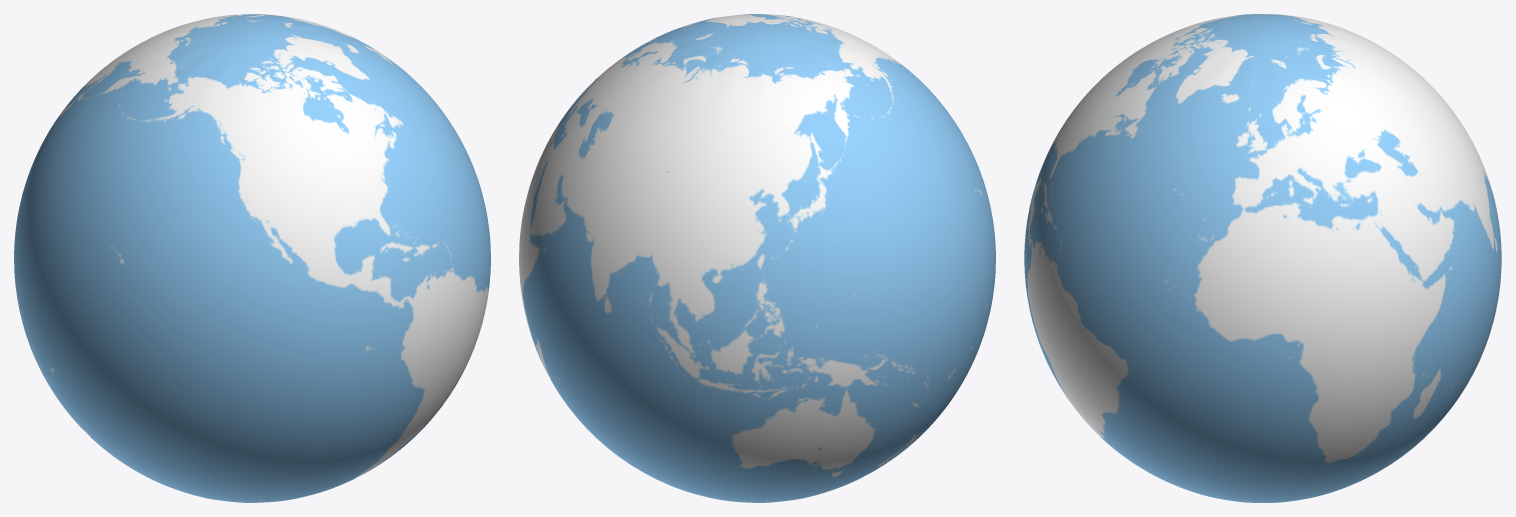
The model's file is earth.obj.
3 views of the same model, side by side, from view 1: azimuth 30°, elevation 25°; view 2: azimuth 150°, elevation 25°; view 3: azimuth 270°, elevation 25° (orthographic).
Parts seen in each view (by area): view 1: Sphere; view 2: Sphere; view 3: Sphere.
Part boxes in pixels (left/top/right/bottom): Sphere: left=14, top=14, right=490, bottom=502; Sphere: left=519, top=14, right=995, bottom=502; Sphere: left=1024, top=14, right=1501, bottom=502.
Size of the model in its own units: 1.9 by 1.97 by 1.9.
Materials: 1 (1 with a texture image).
